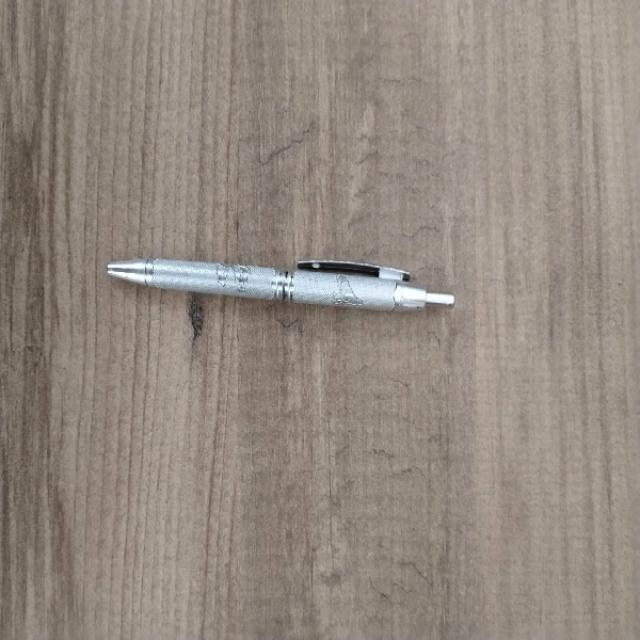signature pen: (108, 260, 454, 311)
